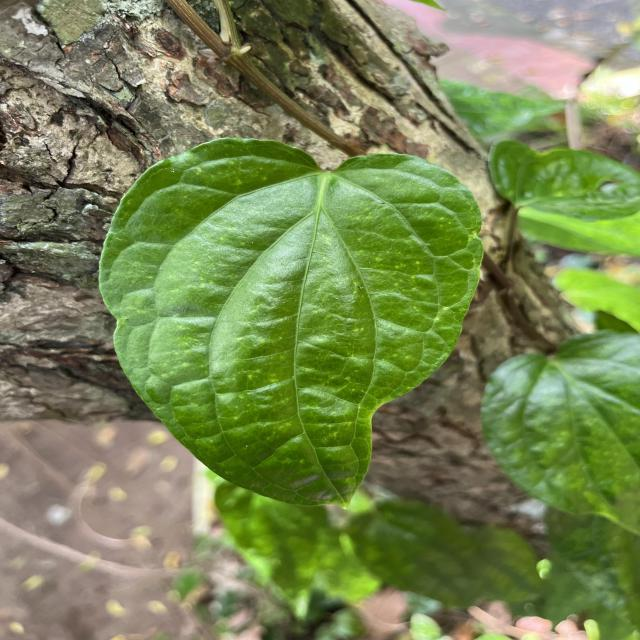Piper betle: (94, 134, 487, 514)
